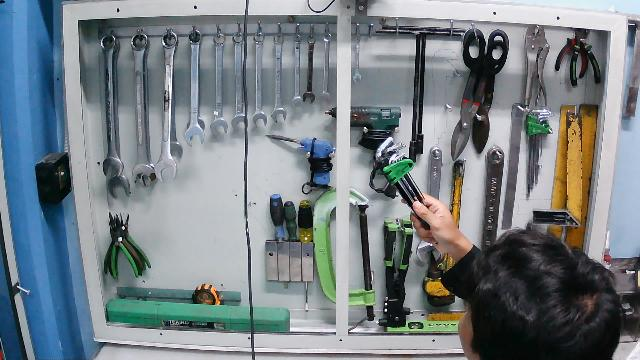kunci_l: (373, 137, 436, 230)
